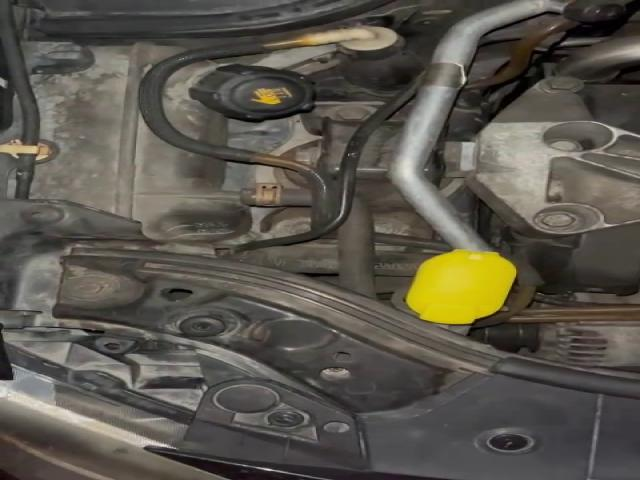antifreeze_tank: (31, 43, 252, 242), (161, 61, 314, 145)
